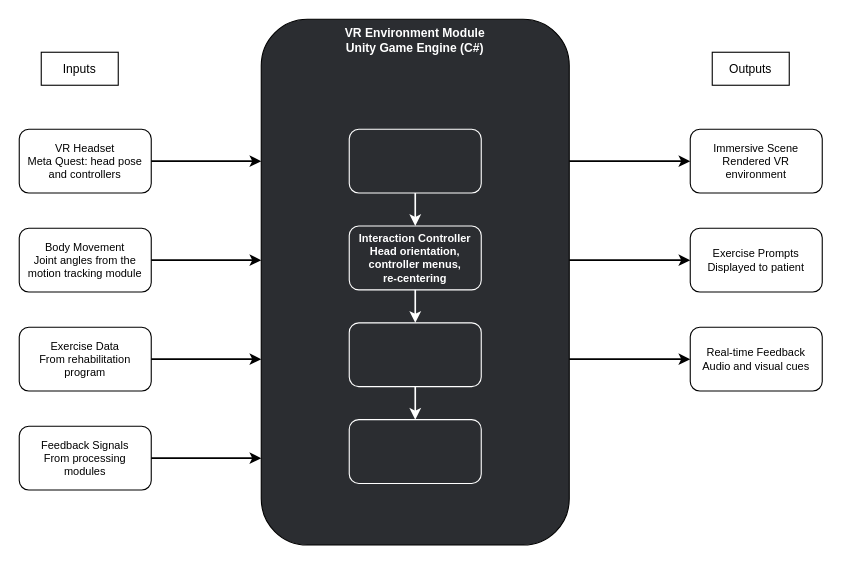
This 842x564 diagram has some shape labels left out. Here are the shapes that lost their labels. From the top down, the centre of each, then its label:
the point at 414,160: Scene Renderer Displays 3D rehabilitation room
the point at 414,354: Exercise Prompt Display Shows instructions and task cues
the point at 414,451: Feedback Overlay Displays visual and audio feedback
